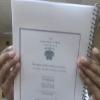notebook: (10, 0, 98, 99)
